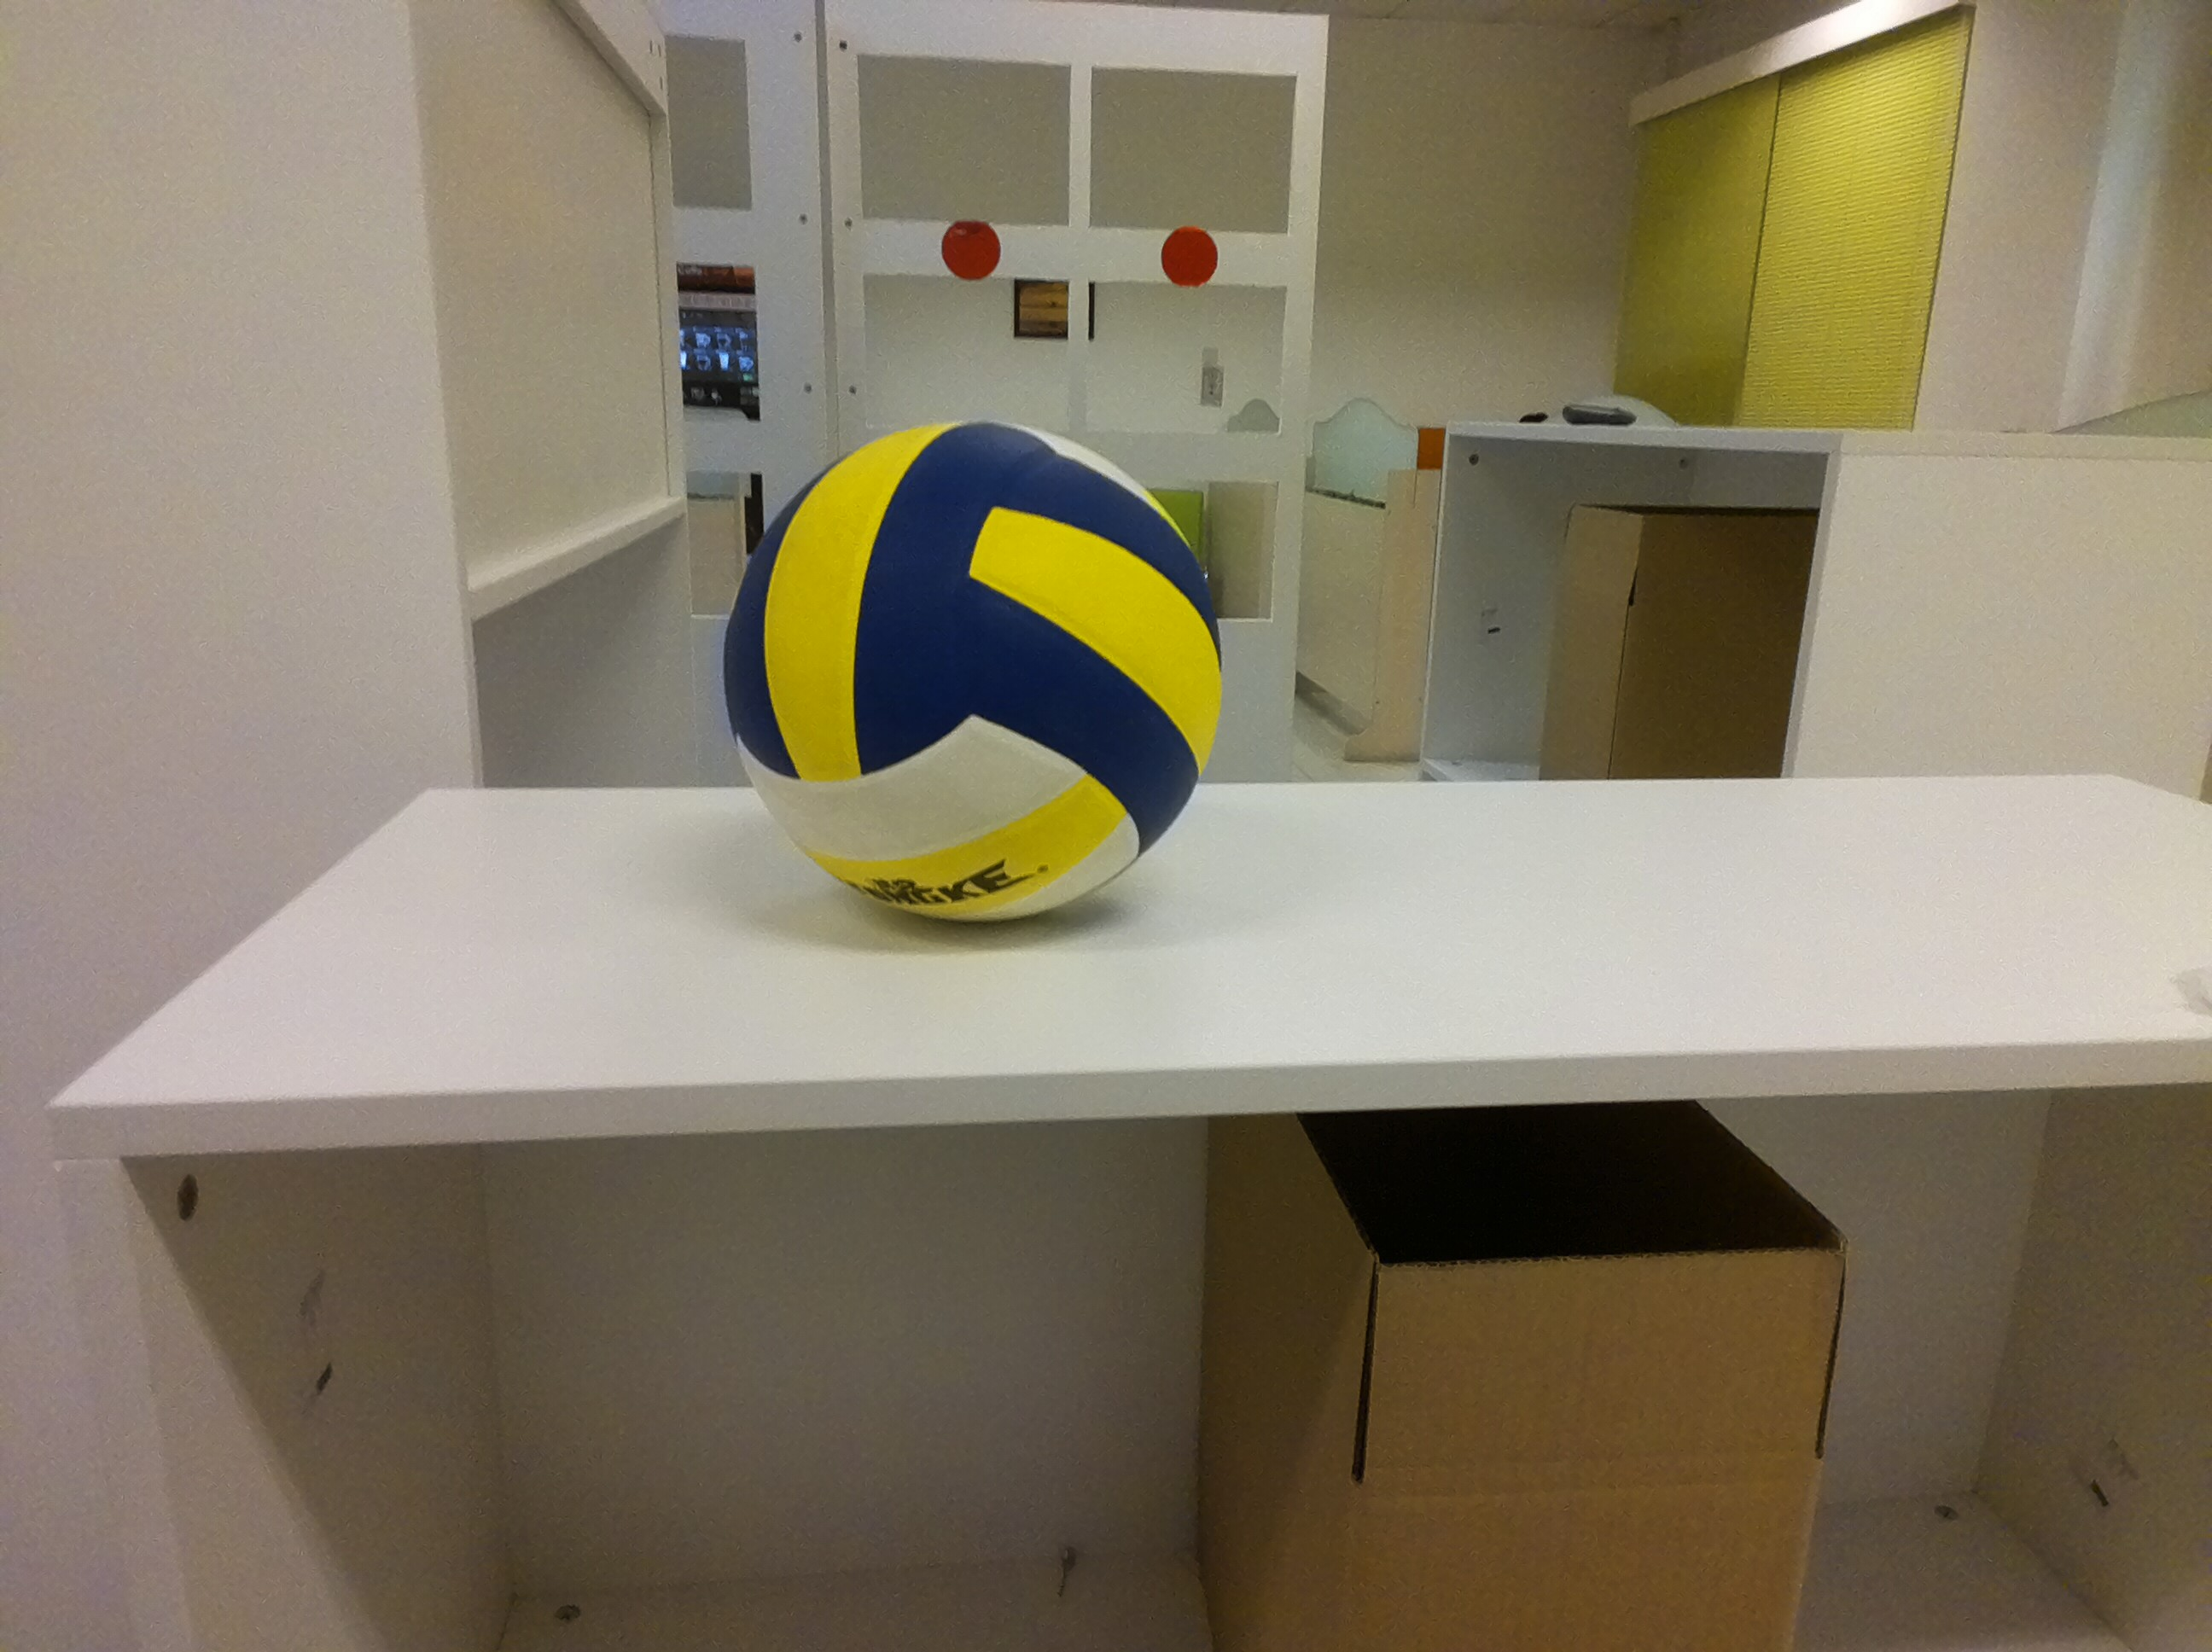volleyball: (713, 413, 1244, 942)
